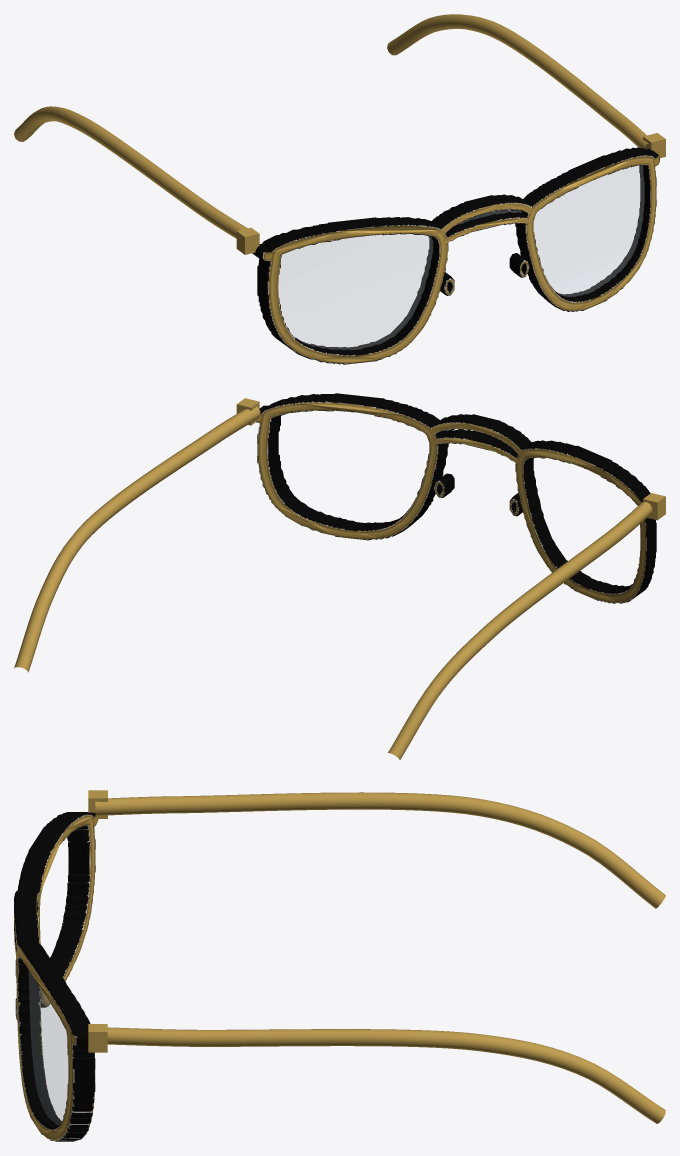
3 views of the same model, one above another, from view 1: azimuth 30°, elevation 25°; view 2: azimuth 150°, elevation 25°; view 3: azimuth 270°, elevation 25° (orthographic). The views are drawn at different scales.
Size of the model in its own units: 140 by 43.15 by 161.
Materials: 3 (1 with a texture image).
